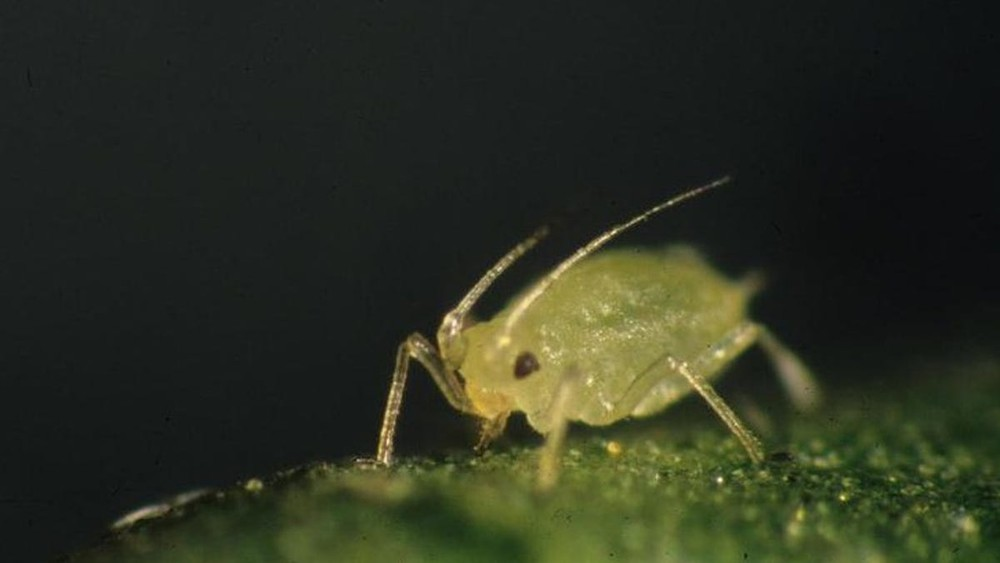Pulgon: (356, 178, 845, 494)
